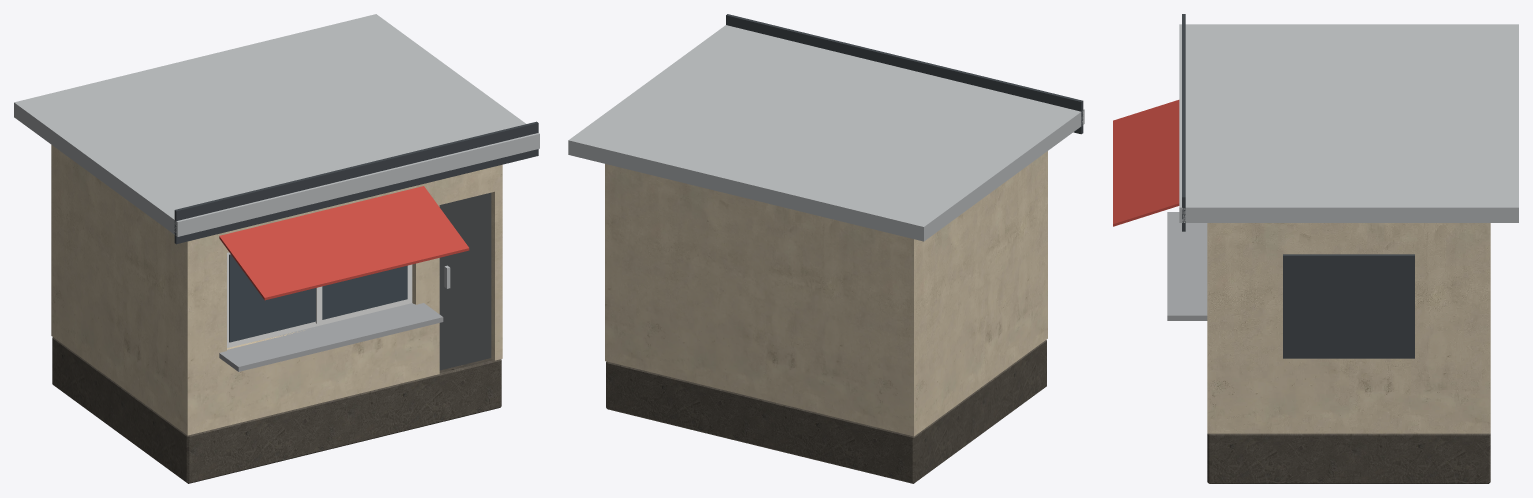
The model's file is kiosk.glb.
3 views of the same model, side by side, from view 1: azimuth 30°, elevation 25°; view 2: azimuth 150°, elevation 25°; view 3: azimuth 270°, elevation 25° (orthographic). The views are drawn at different scales.
Parts seen in each view (by area): view 1: kiosk-plaster0; view 2: kiosk-plaster0; view 3: kiosk-plaster0.
Part boxes in pixels (<box>): kiosk-plaster0: <box>14,14,539,483</box>; kiosk-plaster0: <box>568,14,1084,483</box>; kiosk-plaster0: <box>1113,14,1518,483</box>.
Size of the model in its own units: 4.6 by 3.5 by 4.3.
Materials: 9 (2 with a texture image).
